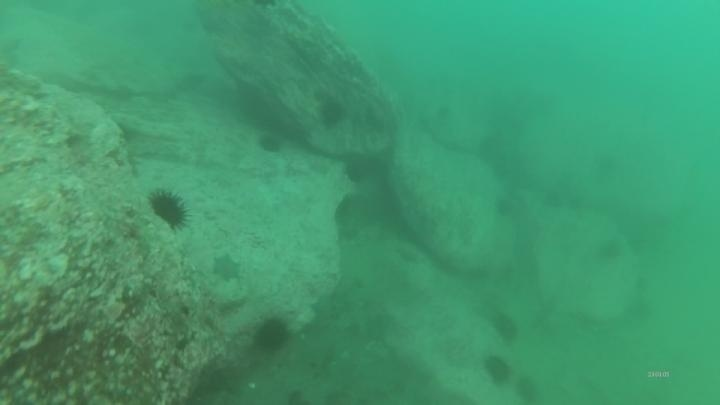echinus: (146, 187, 192, 232), (251, 315, 292, 355), (481, 353, 514, 387), (489, 310, 521, 345), (316, 96, 348, 131), (512, 374, 542, 404), (341, 156, 371, 186), (595, 236, 625, 264), (255, 130, 286, 156), (492, 194, 517, 219)
starfish: (209, 251, 244, 284)
